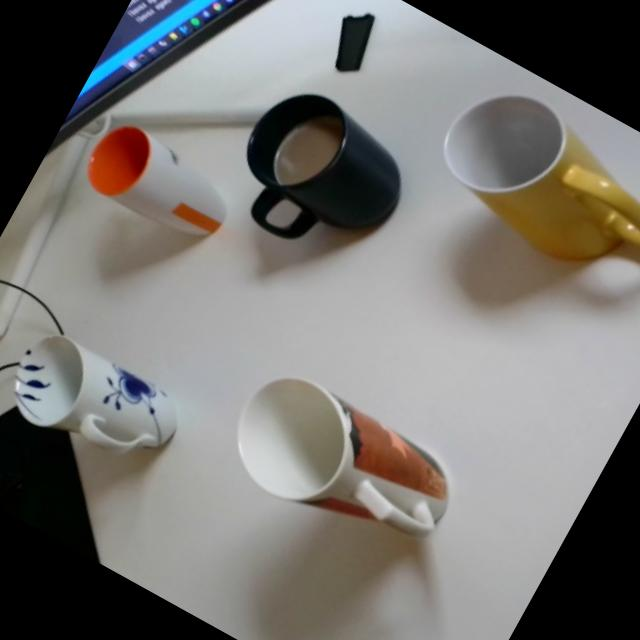Cocio Cup: (416, 67, 640, 304)
Cup: (212, 73, 428, 281)
Halloween cup: (210, 356, 473, 576)
Hand painted cup: (0, 320, 191, 486)
White Cup: (78, 112, 246, 254)
